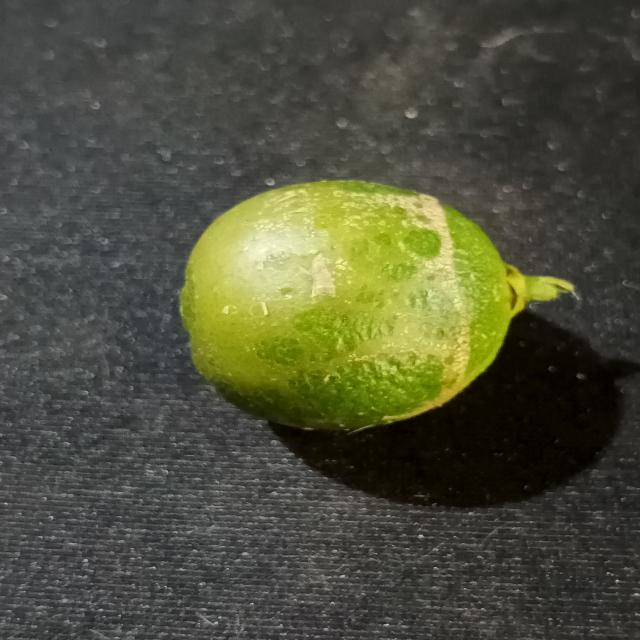thrips: (174, 182, 517, 440)
